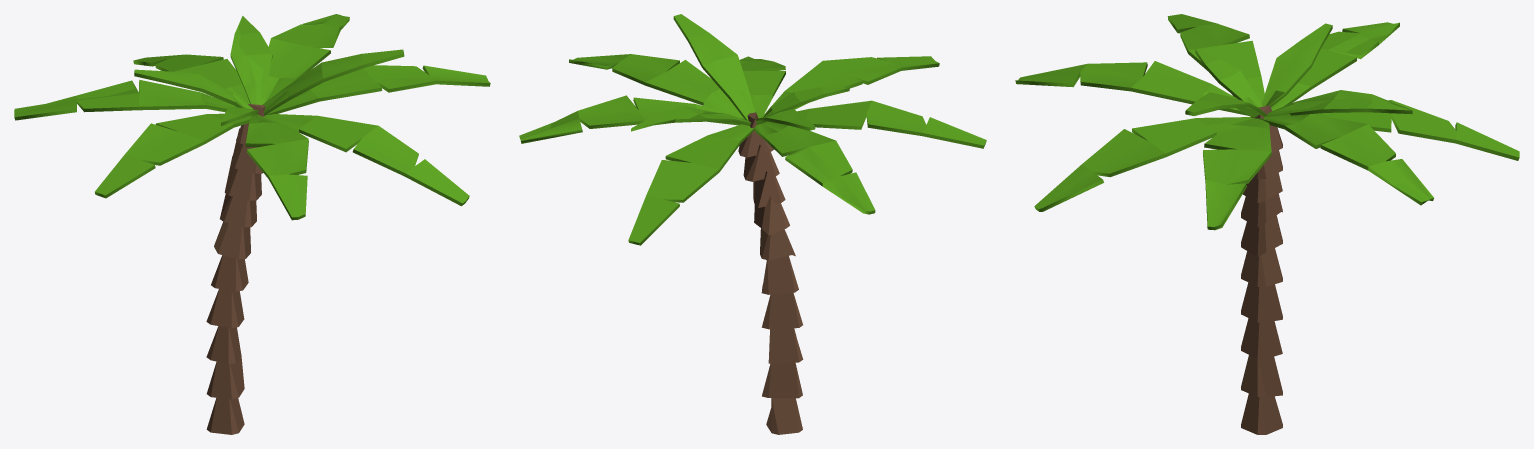
Rendered from Palm.fbx.
3 views of the same model, side by side, from view 1: azimuth 30°, elevation 25°; view 2: azimuth 150°, elevation 25°; view 3: azimuth 270°, elevation 25° (orthographic). The views are drawn at different scales.
Parts seen in each view (by area): view 1: Palm; view 2: Palm; view 3: Palm.
Boxes of the visible parts, <box> form: Palm: <box>14,14,490,434</box>; Palm: <box>519,14,986,434</box>; Palm: <box>1015,14,1519,434</box>.
Size of the model in its own units: 504 by 429 by 503.
